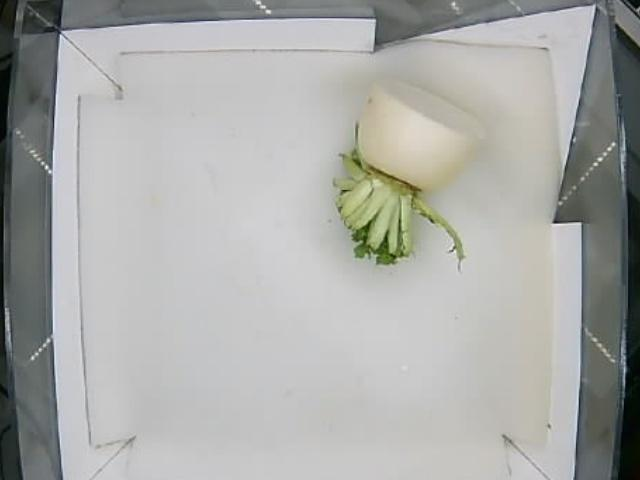Mooli: (336, 76, 478, 269)
